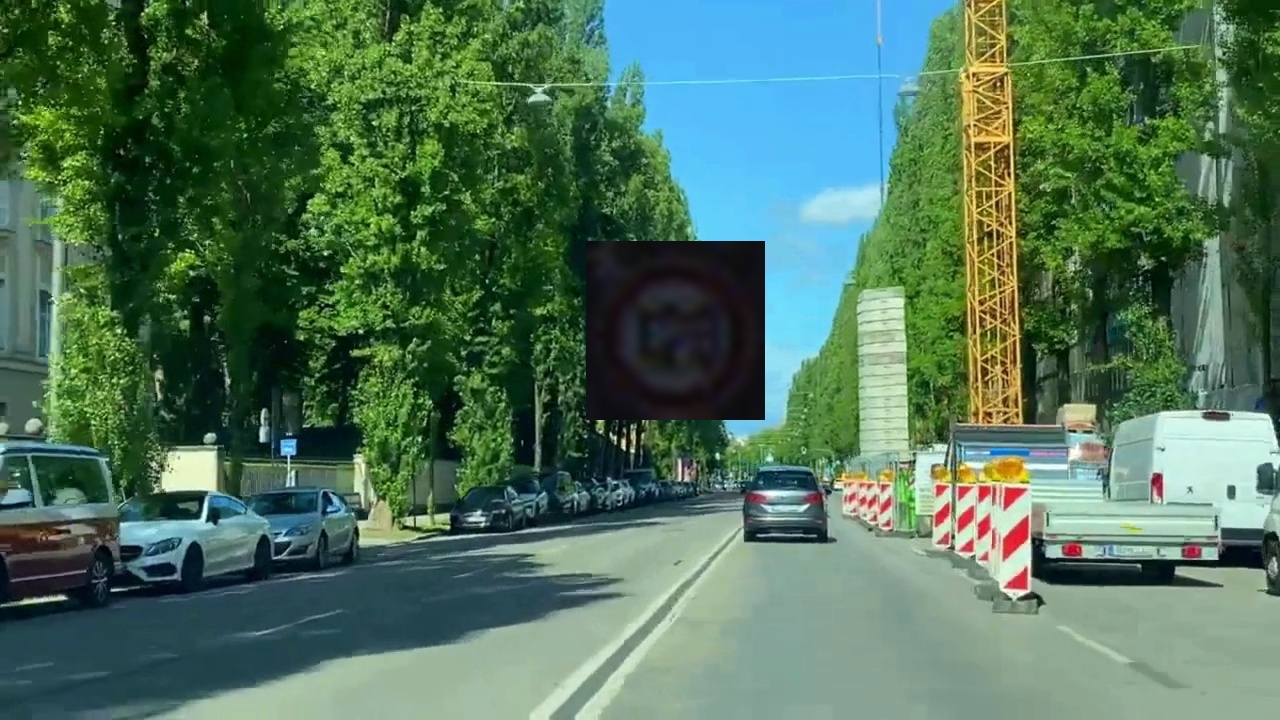Speed 120: (586, 241, 765, 420)
